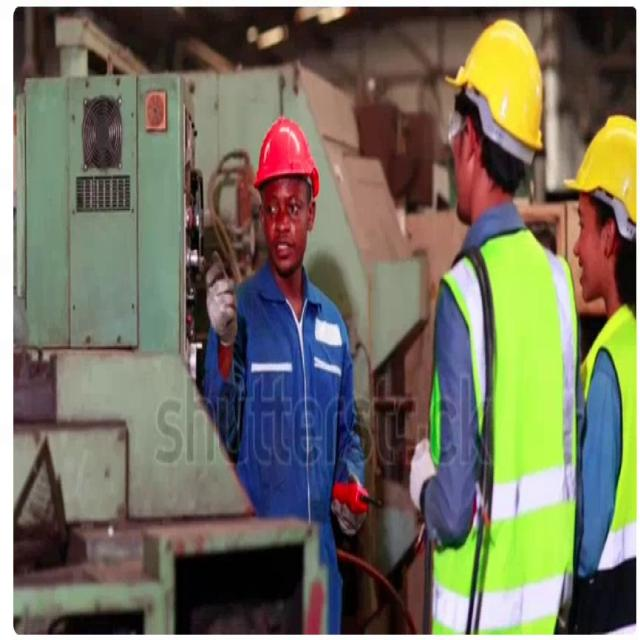gloved: (203, 252, 238, 346), (330, 474, 369, 536), (409, 436, 436, 512)
